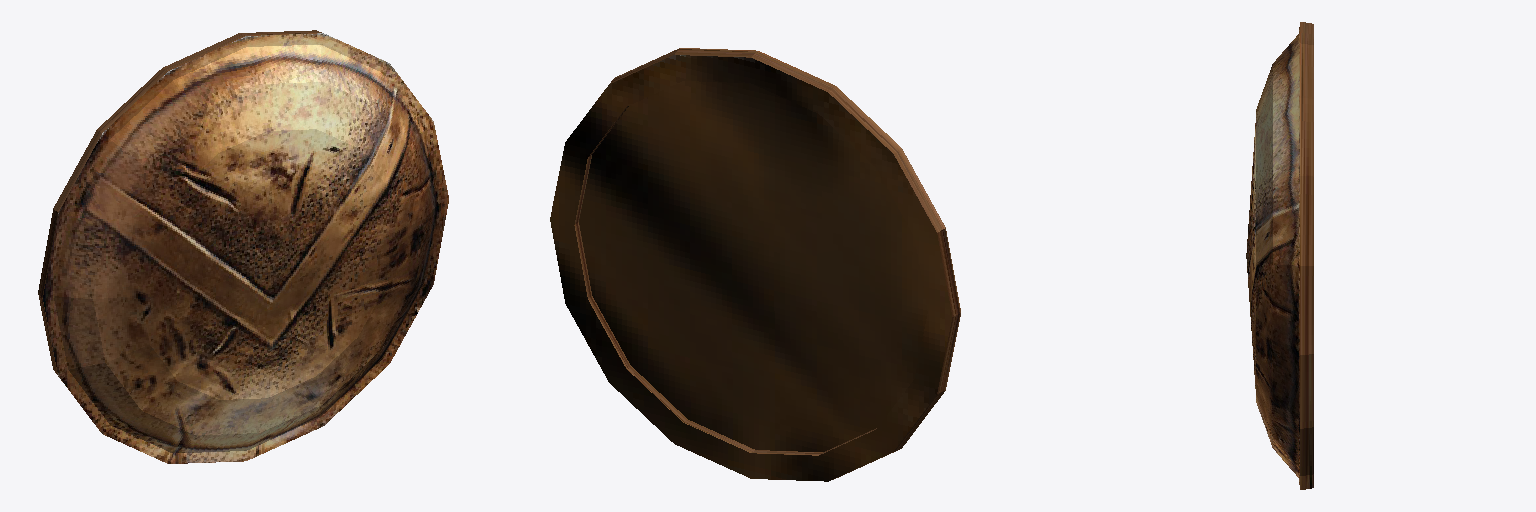
3 renders of one model, left to right at view 1: azimuth 30°, elevation 25°; view 2: azimuth 150°, elevation 25°; view 3: azimuth 270°, elevation 25°, orthographic.
Parts seen in each view (by area): view 1: spartanSheild; view 2: spartanSheild; view 3: spartanSheild.
Part boxes in pixels (left/top/right/bottom): spartanSheild: left=38, top=30, right=448, bottom=463; spartanSheild: left=550, top=48, right=960, bottom=481; spartanSheild: left=1246, top=22, right=1313, bottom=489.
Bounding box in the file's own units: 24.55 × 24.55 × 3.52.
1 materials, 1 textured.